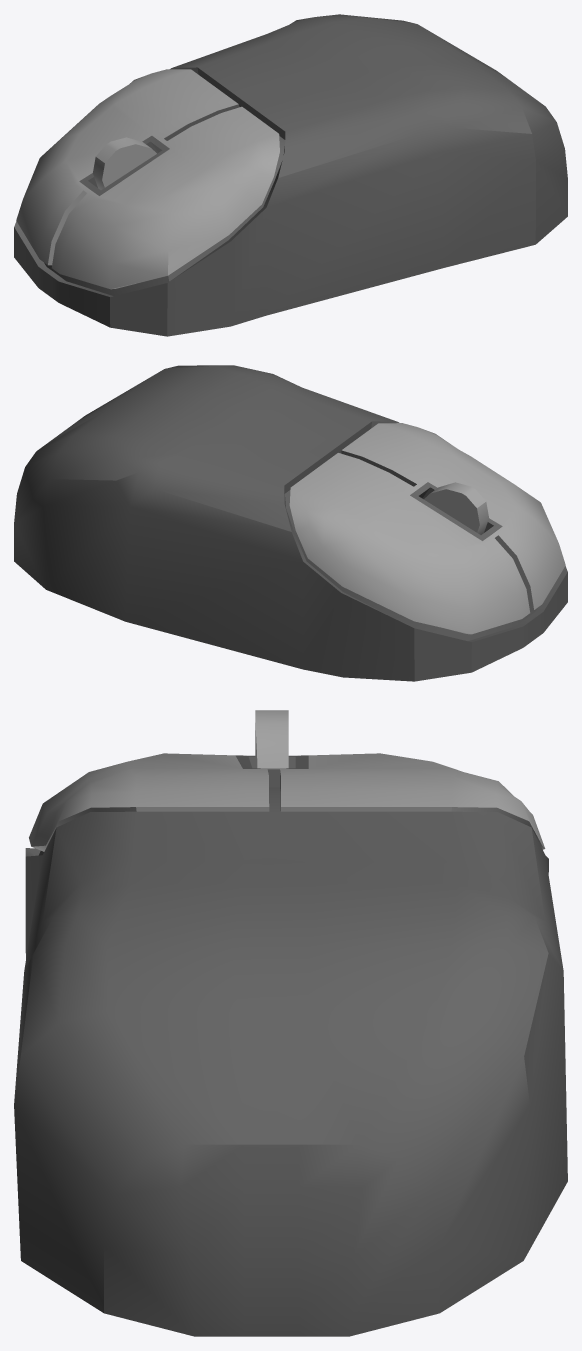
Rendered from Computer_Mouse_02.glb.
3 renders of one model, top to bottom at view 1: azimuth 30°, elevation 25°; view 2: azimuth 150°, elevation 25°; view 3: azimuth 270°, elevation 25°, orthographic. The views are drawn at different scales.
Visible parts, largest first — view 1: Mesh_Computer_Mouse_02; view 2: Mesh_Computer_Mouse_02; view 3: Mesh_Computer_Mouse_02.
Boxes of the visible parts, left/top/right/bottom form: Mesh_Computer_Mouse_02: left=14, top=14, right=567, bottom=336; Mesh_Computer_Mouse_02: left=14, top=365, right=567, bottom=681; Mesh_Computer_Mouse_02: left=14, top=710, right=567, bottom=1336.
Size of the model in its own units: 0.1285 by 0.0413 by 0.0698.
1 material, 1 textured.
